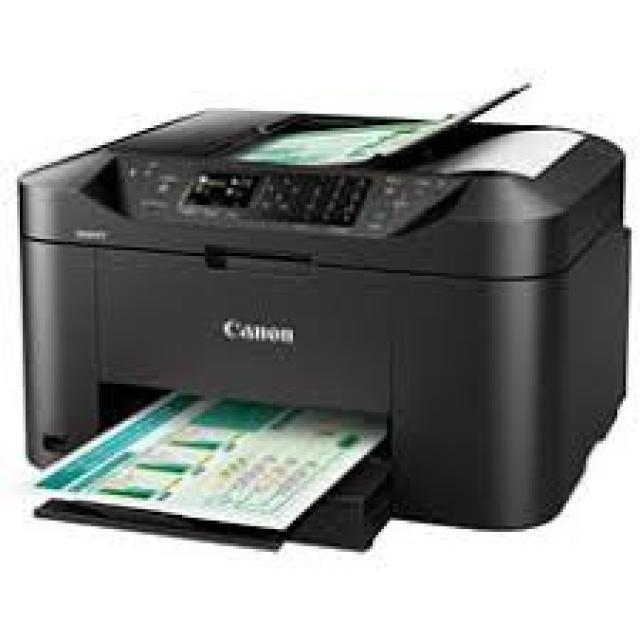printer: (14, 94, 632, 552)
